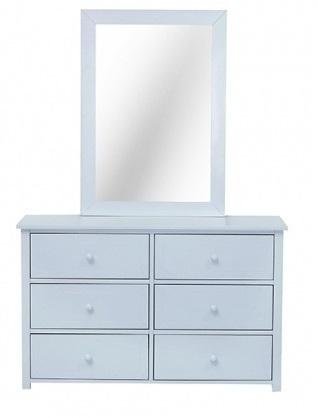cabinet_door: (158, 235, 273, 279), (31, 337, 148, 380), (32, 284, 148, 327), (32, 235, 148, 278), (154, 339, 270, 382), (155, 285, 271, 328)
handle: (207, 351, 220, 367), (84, 300, 96, 317), (84, 250, 96, 267), (208, 251, 220, 267), (83, 350, 95, 366), (209, 300, 220, 317)
